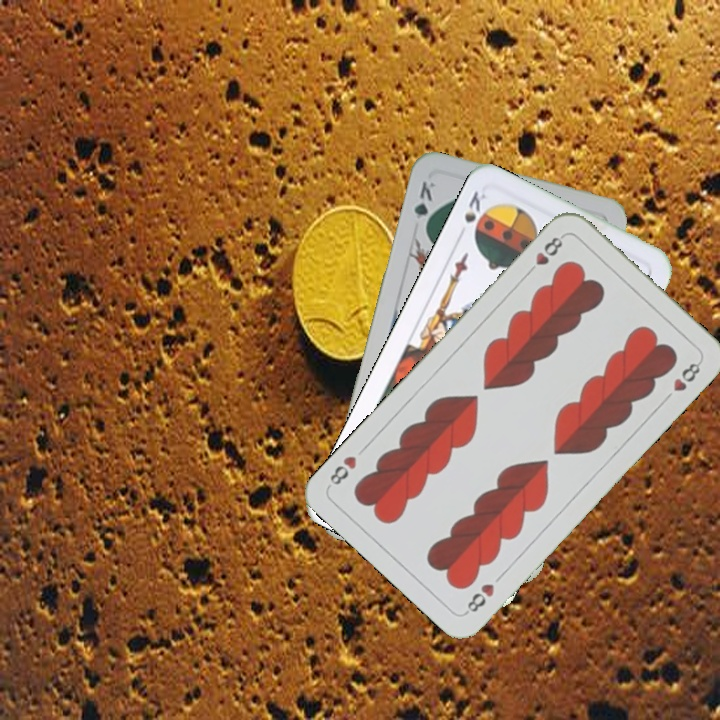GK: (409, 177, 439, 235)
H8: (522, 231, 567, 278), (461, 579, 497, 617)
SK: (460, 187, 490, 241)
